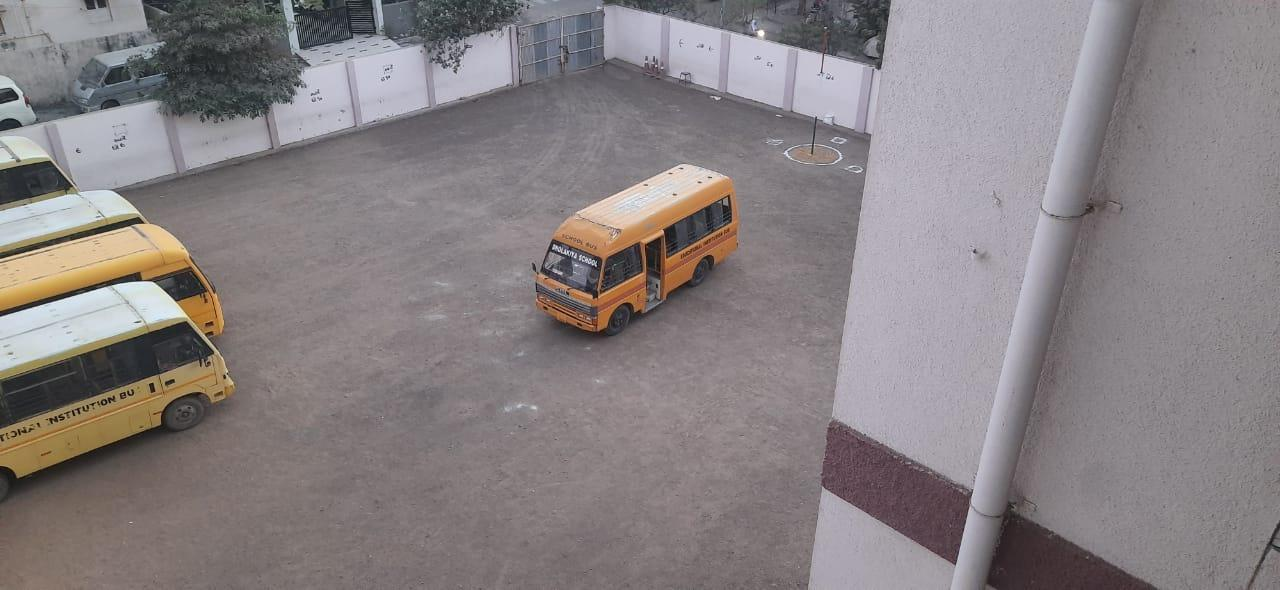Bus: (6, 283, 244, 466), (526, 155, 750, 340), (8, 232, 243, 333), (8, 179, 160, 233)
